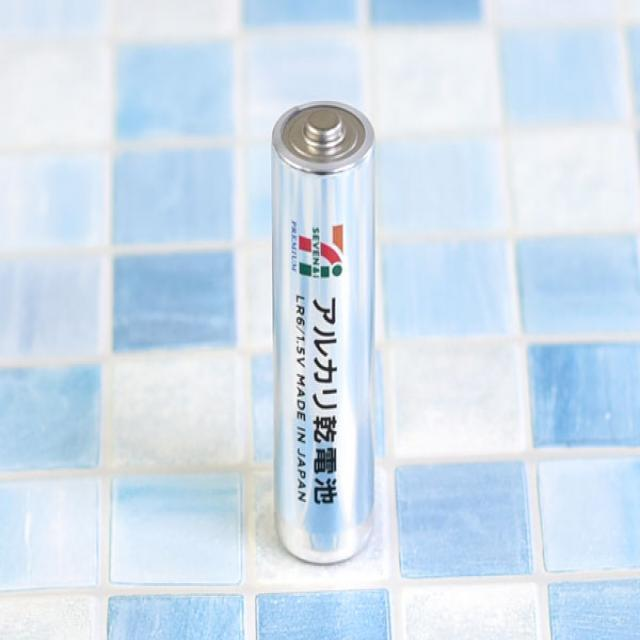Hazard: (264, 94, 384, 568)
